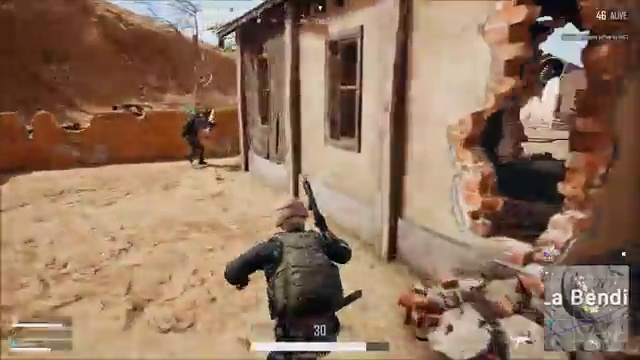Player: (213, 172, 376, 322), (176, 107, 222, 170)
